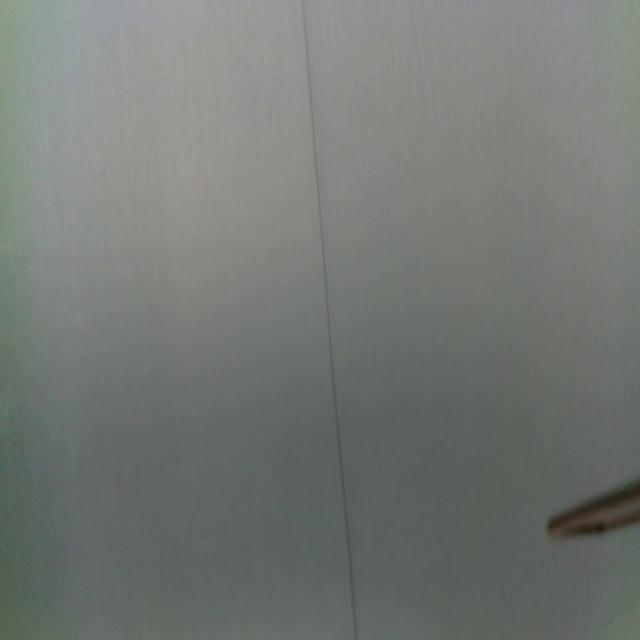crease: (300, 1, 356, 640)
